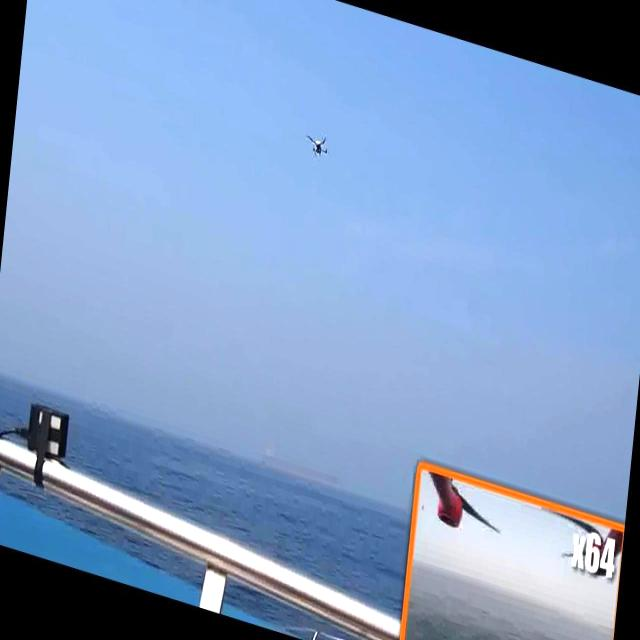drone: (301, 121, 333, 164)
